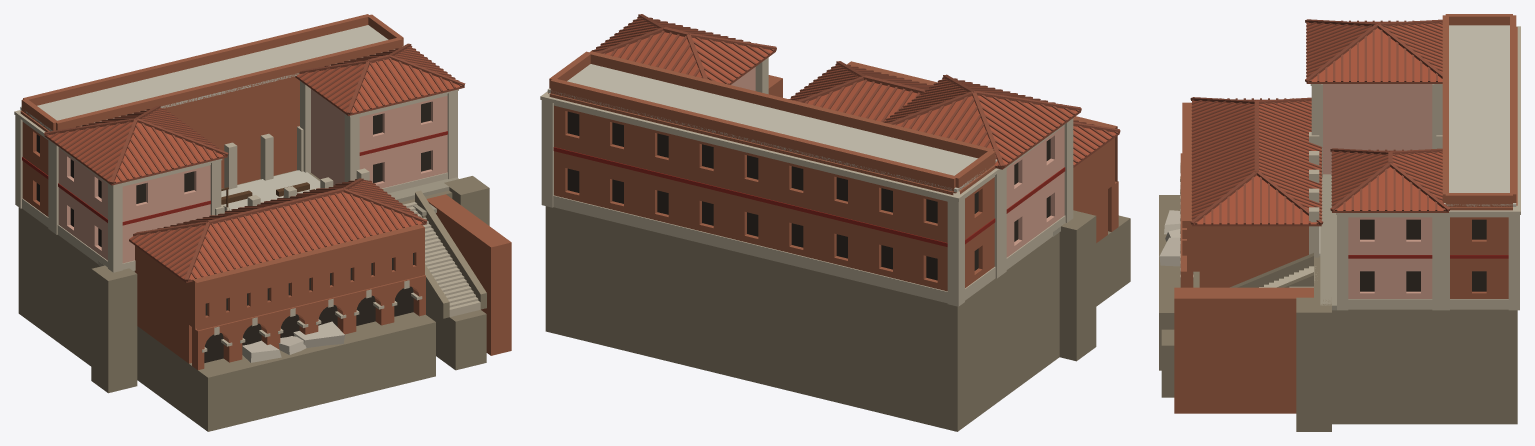
Rendered from rome_pal_block_d.glb.
3 views of the same model, side by side, from view 1: azimuth 30°, elevation 25°; view 2: azimuth 150°, elevation 25°; view 3: azimuth 270°, elevation 25° (orthographic). The views are drawn at different scales.
Parts seen in each view (by area): view 1: rome_pal_block_d; view 2: rome_pal_block_d; view 3: rome_pal_block_d.
Boxes of the visible parts, <box> form: rome_pal_block_d: <box>14,14,511,431</box>; rome_pal_block_d: <box>540,14,1130,431</box>; rome_pal_block_d: <box>1159,14,1520,431</box>.
Bounding box in the file's own units: 36.8 × 21.24 × 28.47.
